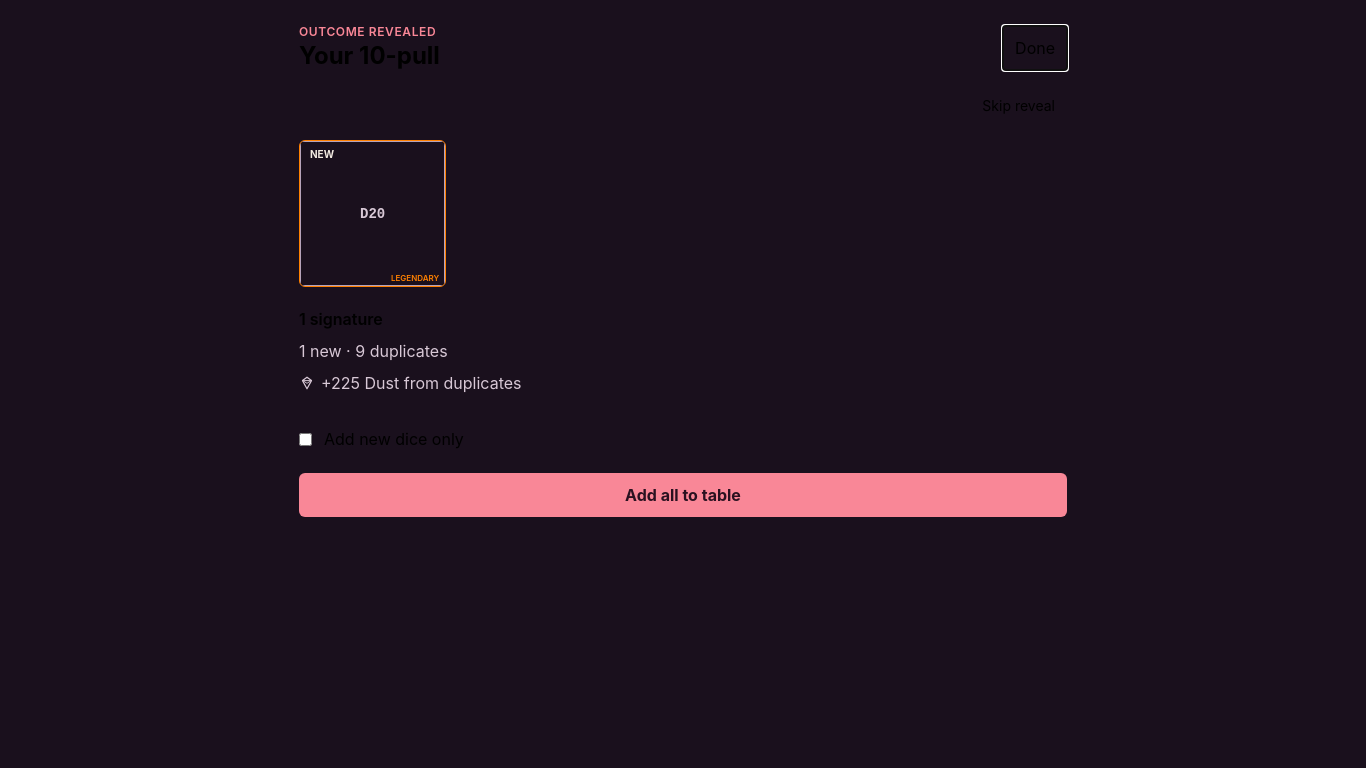
Test: PullRevealOverlay › claims through the room backend up to capacity and reports the remainder
Click the button "Skip reveal".
click(1019, 106)  # box [970,84,1067,128]
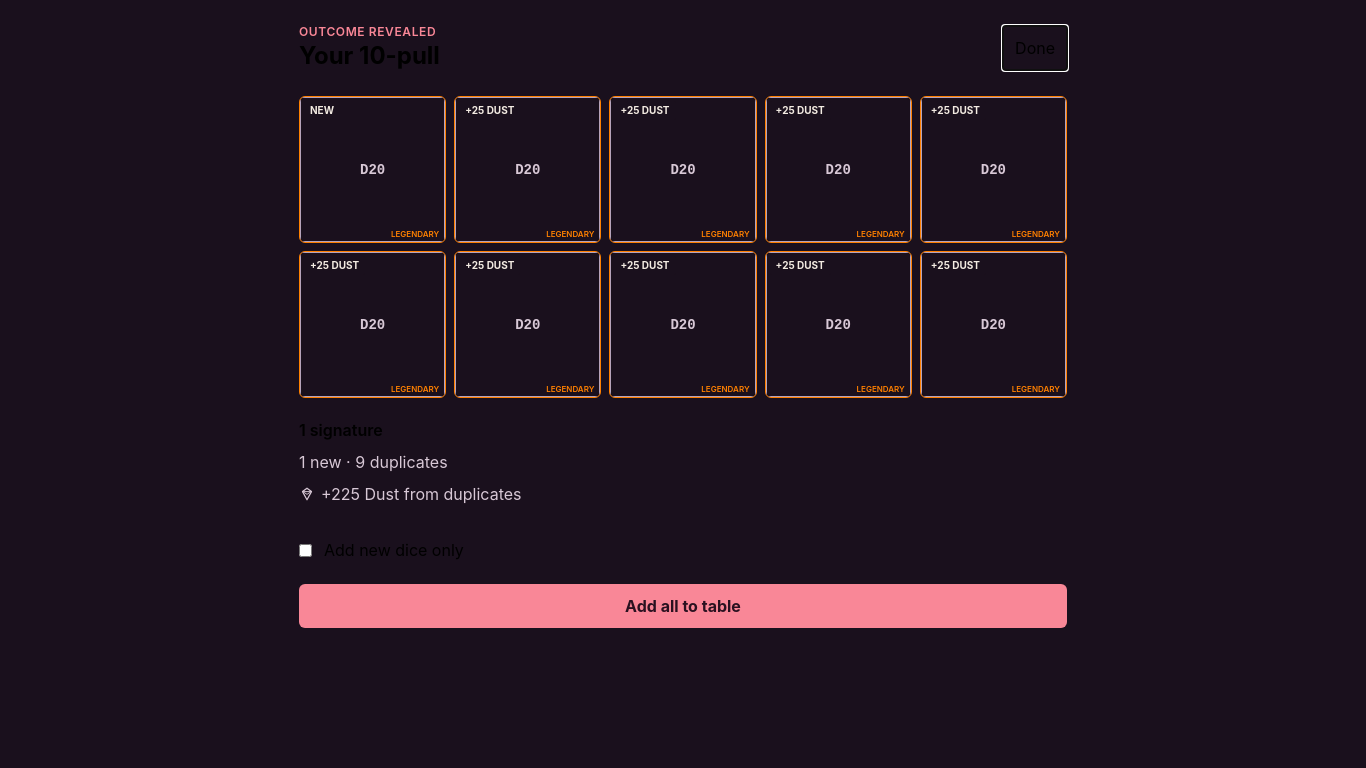
Click the button with aria-label "inspect ember d20 1, legendary".
click(373, 170)  # box [299,96,446,243]
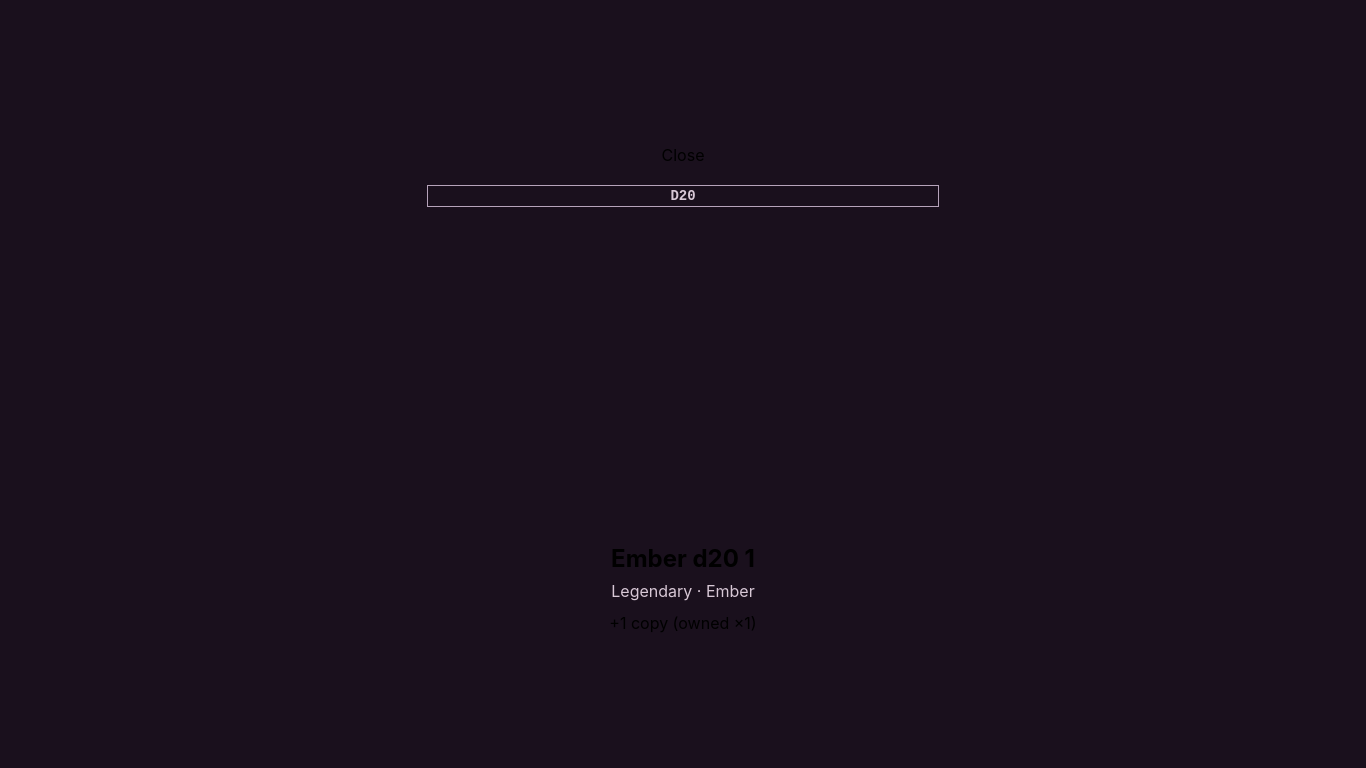
Result: the dialog "Ember d20 1" is shown at [427,133,939,635]
Click the button with aria-label "close result inspection".
click(683, 155)  # box [650,133,716,177]
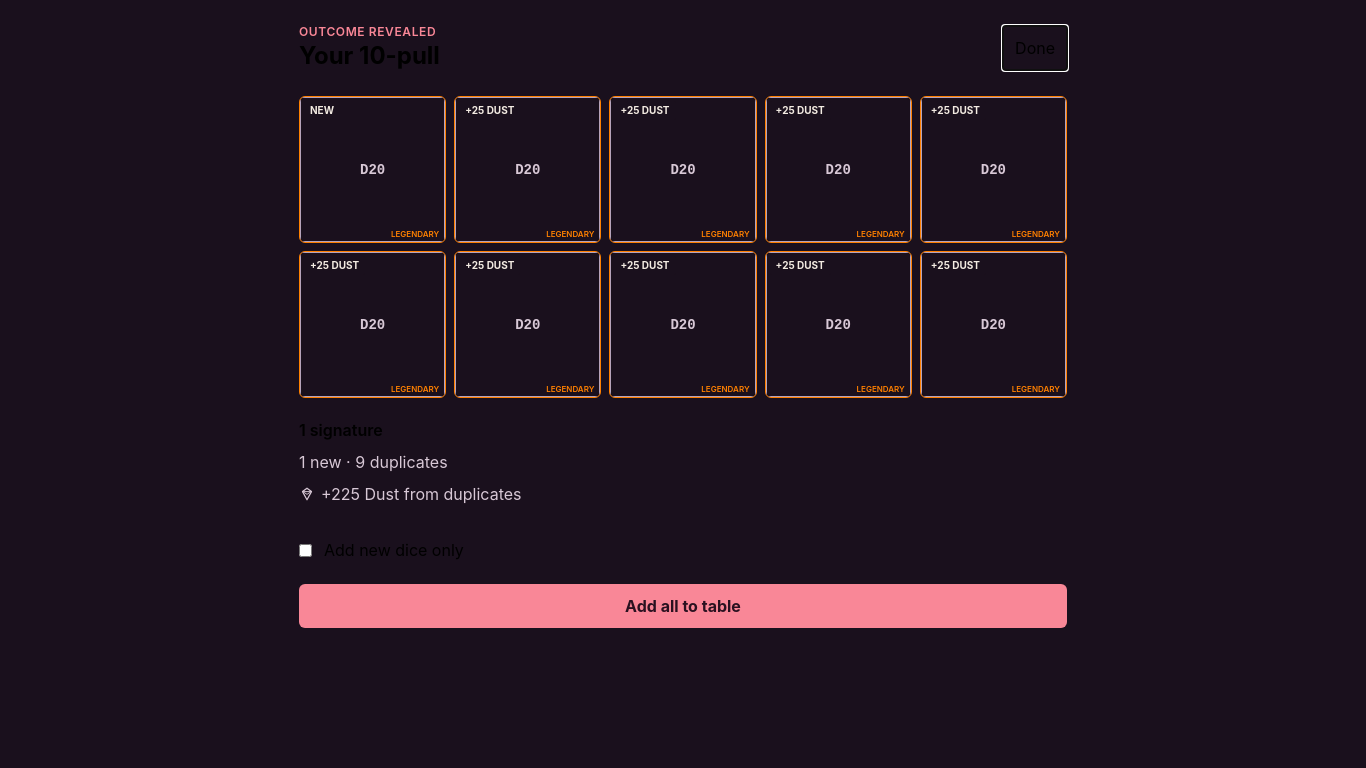
Click the button "Add all to table".
click(683, 606)  # box [299,584,1067,628]
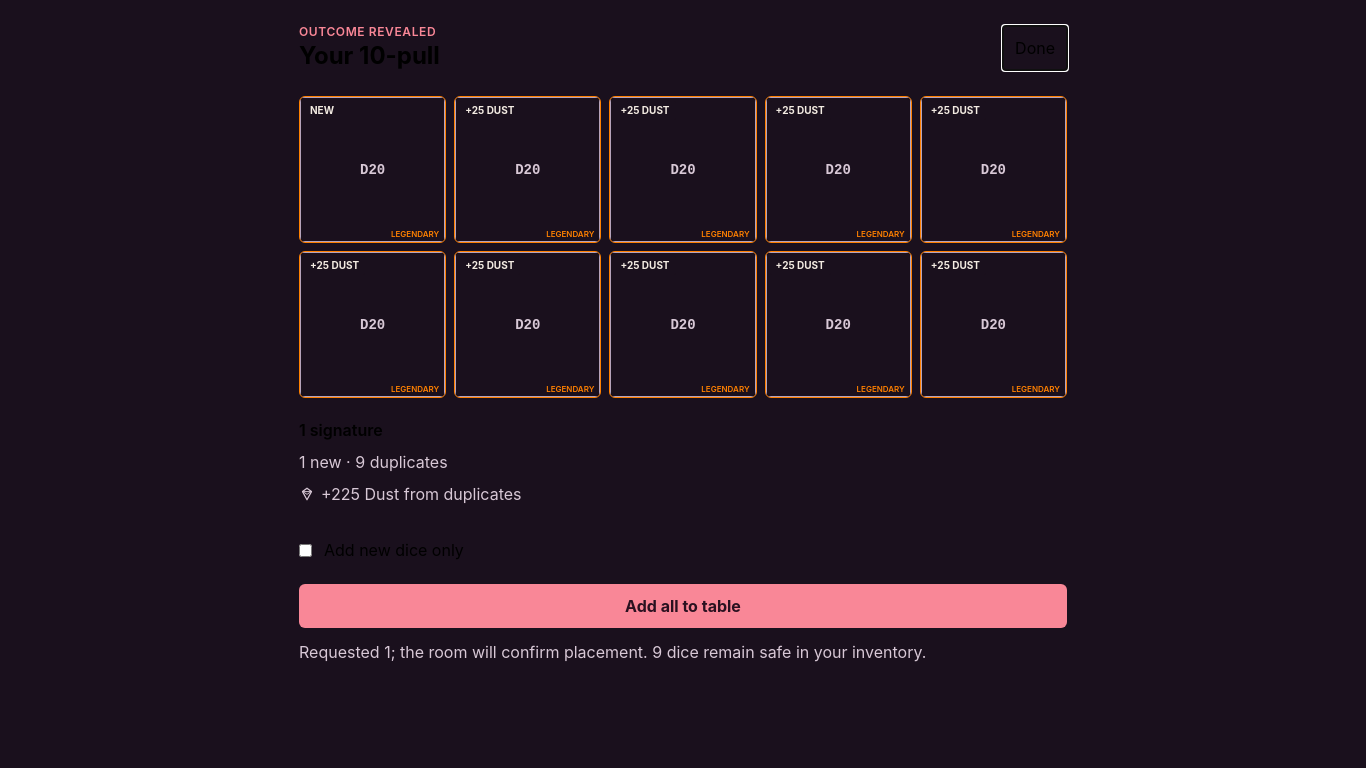
Result: the text "Requested 1; the room will confirm placement. 9 dice remain safe in your inventory." is shown at [299,642,926,662]
